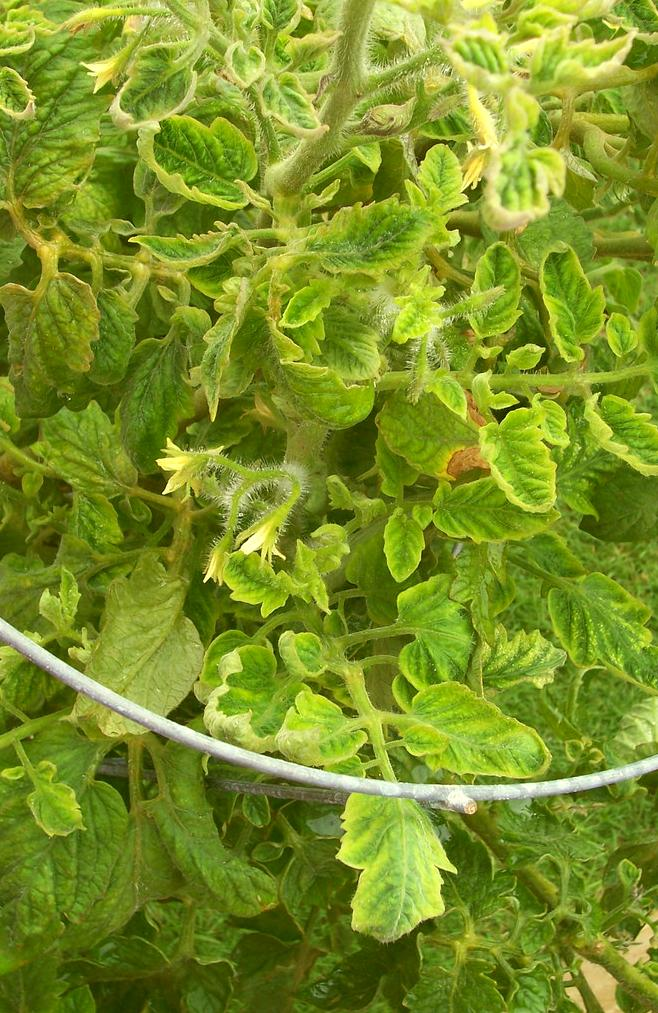Tomato leaf yellow virus: (335, 755, 454, 952), (274, 181, 456, 281), (393, 677, 553, 777), (126, 97, 260, 211), (466, 381, 574, 518), (274, 293, 381, 391), (424, 480, 593, 542), (269, 692, 381, 777), (533, 237, 602, 367), (13, 731, 92, 840), (583, 389, 658, 498), (409, 134, 469, 242), (466, 236, 521, 342), (374, 486, 431, 587), (219, 546, 311, 608)
